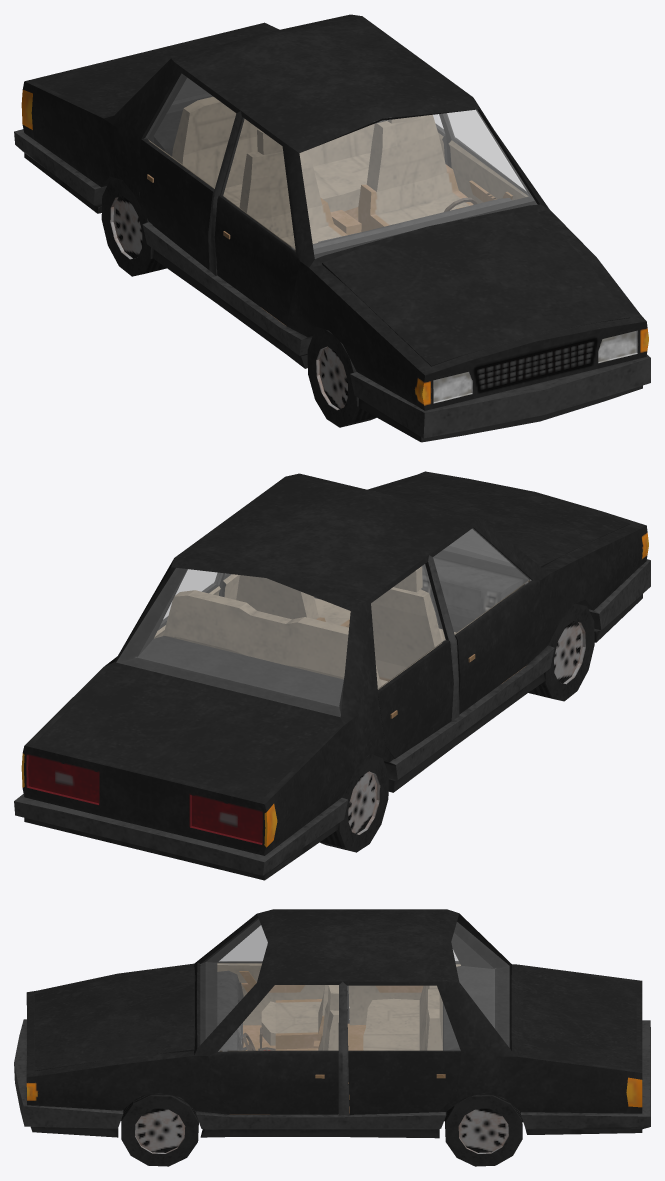
Rendered from BlackCar.fbx.
3 views of the same model, one above another, from view 1: azimuth 30°, elevation 25°; view 2: azimuth 150°, elevation 25°; view 3: azimuth 270°, elevation 25° (orthographic). The views are drawn at different scales.
Parts seen in each view (by area): view 1: Car_Base, car_hood, R_Door_Front, R_Door_Back, trunk, L_Door_Front, R_Wheel_Front, R_Wheel_Back; view 2: Car_Base, trunk, R_Door_Front, R_Door_Back, car_hood, R_Wheel_Back, R_Wheel_Front, L_Door_Back; view 3: Car_Base, L_Door_Front, L_Door_Back, car_hood, trunk, L_Wheel_front, L_Wheel_Back, R_Door_Front, R_Door_Back.
Boxes of the visible parts, left/top/right/bottom form: Car_Base: left=14, top=14, right=650, bottom=442; car_hood: left=322, top=210, right=630, bottom=366; R_Door_Front: left=214, top=118, right=300, bottom=325; R_Door_Back: left=140, top=74, right=235, bottom=270; trunk: left=34, top=26, right=272, bottom=115; L_Door_Front: left=446, top=110, right=529, bottom=203; R_Wheel_Front: left=307, top=329, right=376, bottom=427; R_Wheel_Back: left=101, top=179, right=166, bottom=276; Car_Base: left=14, top=471, right=650, bottom=880; trunk: left=34, top=672, right=333, bottom=799; R_Door_Front: left=433, top=528, right=540, bottom=714; R_Door_Back: left=371, top=564, right=453, bottom=758; car_hood: left=377, top=475, right=629, bottom=567; R_Wheel_Back: left=320, top=754, right=388, bottom=852; R_Wheel_Front: left=528, top=603, right=594, bottom=701; L_Door_Back: left=154, top=569, right=222, bottom=638; Car_Base: left=14, top=909, right=650, bottom=1138; L_Door_Front: left=208, top=985, right=338, bottom=1114; L_Door_Back: left=347, top=986, right=461, bottom=1114; car_hood: left=34, top=967, right=195, bottom=1071; trunk: left=523, top=967, right=636, bottom=1069; L_Wheel_front: left=121, top=1093, right=198, bottom=1166; L_Wheel_Back: left=445, top=1093, right=522, bottom=1166; R_Door_Front: left=217, top=926, right=324, bottom=1025; R_Door_Back: left=348, top=951, right=460, bottom=1025.
Size of the model in its own units: 171 by 148 by 473.
